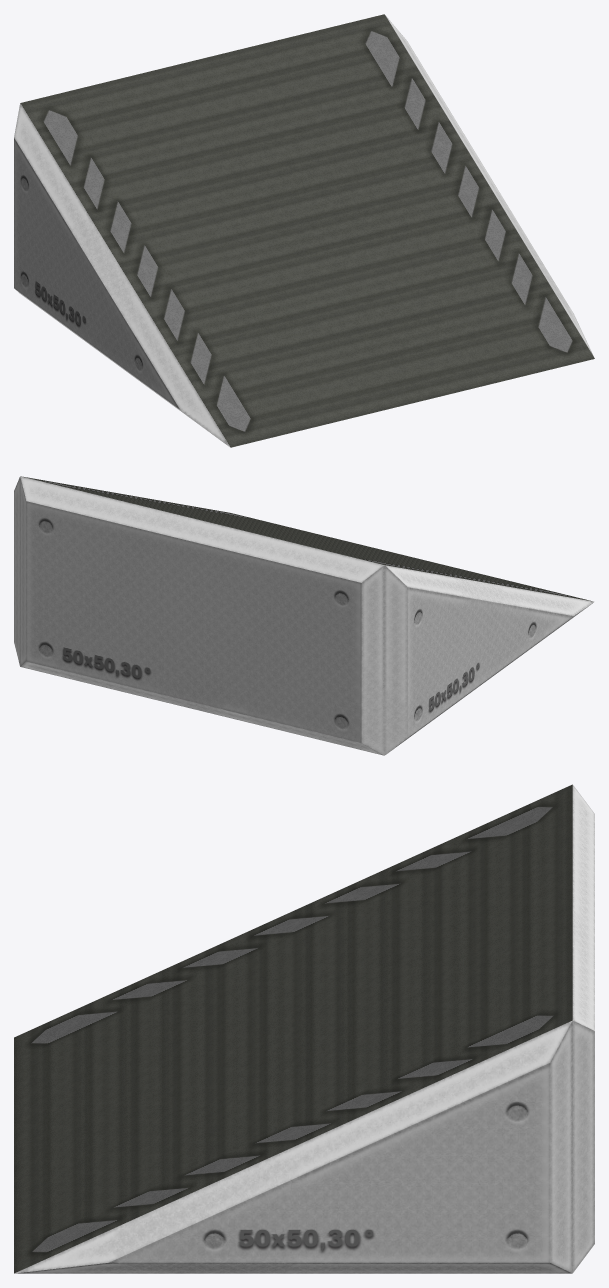
File: ramp30.FBX
The picture shows the model from 3 angles, top to bottom: view 1: azimuth 30°, elevation 25°; view 2: azimuth 150°, elevation 25°; view 3: azimuth 270°, elevation 25°; orthographic projection. The views are drawn at different scales.
Visible parts, largest first — view 1: Object06; view 2: Object06; view 3: Object06.
Part boxes in pixels (x1,y1,x2,y2): Object06: (14,14,594,447); Object06: (14,476,594,755); Object06: (14,784,594,1273).
Bounding box in the file's own units: 54 × 25 × 52.
1 material, 1 textured.
